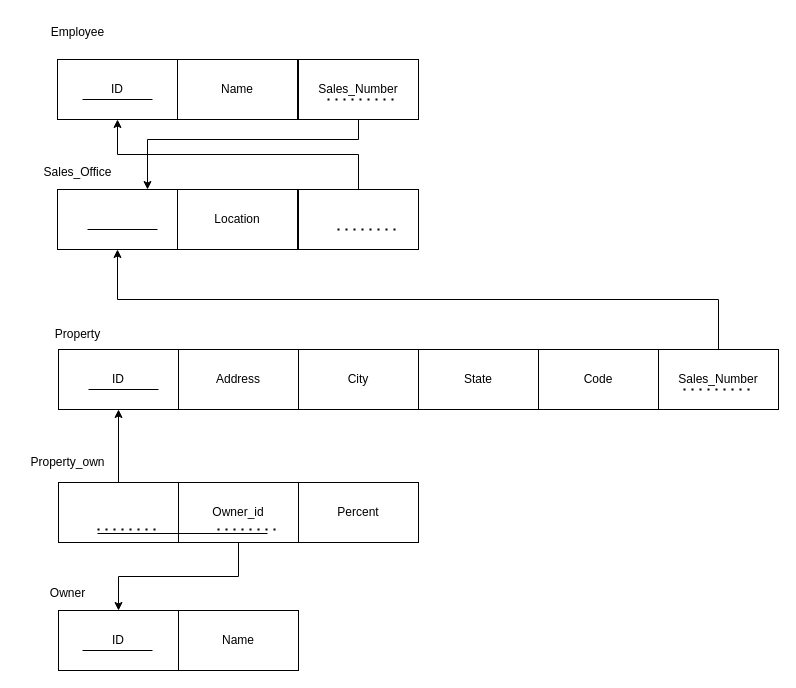
Some shapes in this 796 by 688 pixel diagram are drawn without their labels. The box of each missing label's shape, as (x1, y1, x2, y2) in pixels:
Emp_id: (298, 188, 418, 250)
Number: (56, 188, 178, 250)
Property_id: (58, 482, 178, 542)
